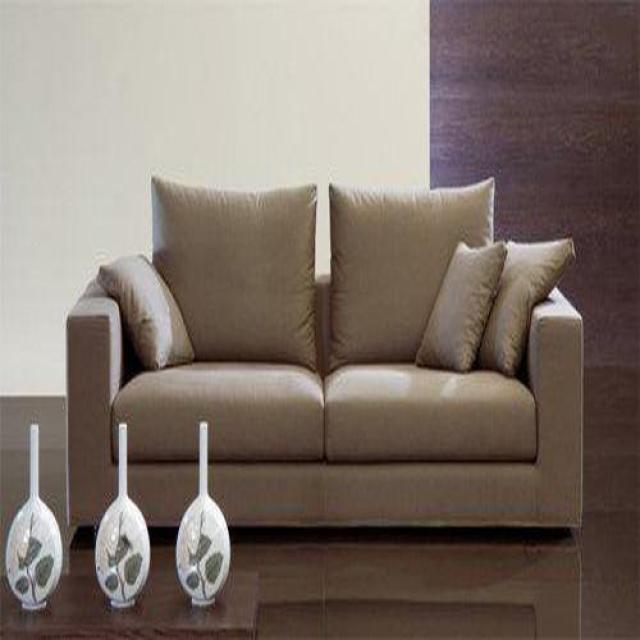sofa: (64, 178, 585, 584)
